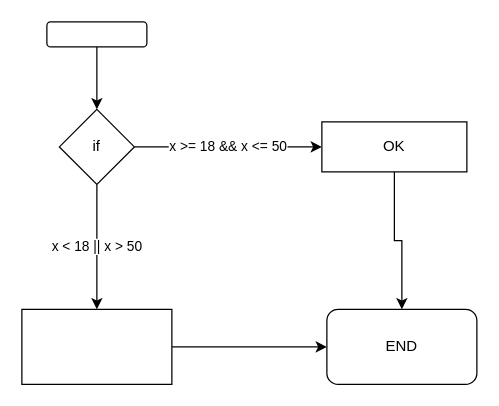
Some shapes in this 499 by 406 pixel diagram are drawn without their labels. Each missing label, with the centre of its shape:
No: pixel 96 346
Start: pixel 96 34
